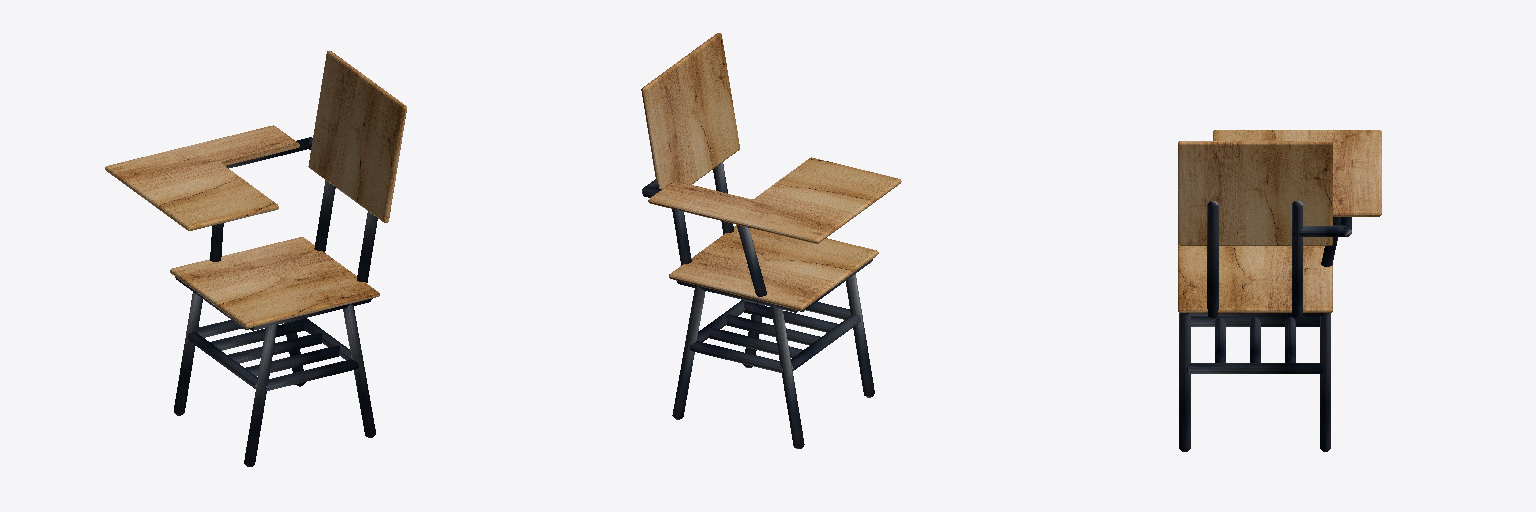
3 views of the same model, side by side, from view 1: azimuth 30°, elevation 25°; view 2: azimuth 150°, elevation 25°; view 3: azimuth 270°, elevation 25° (orthographic).
Parts seen in each view (by area): view 1: ChamferBox003, ChamferCyl012; view 2: ChamferBox003, ChamferCyl012; view 3: ChamferBox003, ChamferCyl012.
Part boxes in pixels (x1,y1,x2,y2): ChamferBox003: (105, 51, 406, 328); ChamferCyl012: (174, 137, 377, 466); ChamferBox003: (641, 33, 901, 310); ChamferCyl012: (642, 162, 874, 448); ChamferBox003: (1178, 130, 1381, 312); ChamferCyl012: (1179, 201, 1351, 451).
Size of the model in its own units: 32.63 by 50.21 by 28.54.
2 materials, 2 textured.